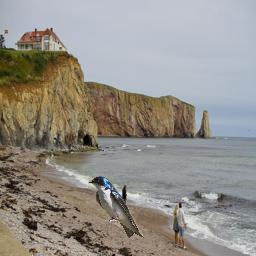Swallow: (88, 176, 144, 239)
